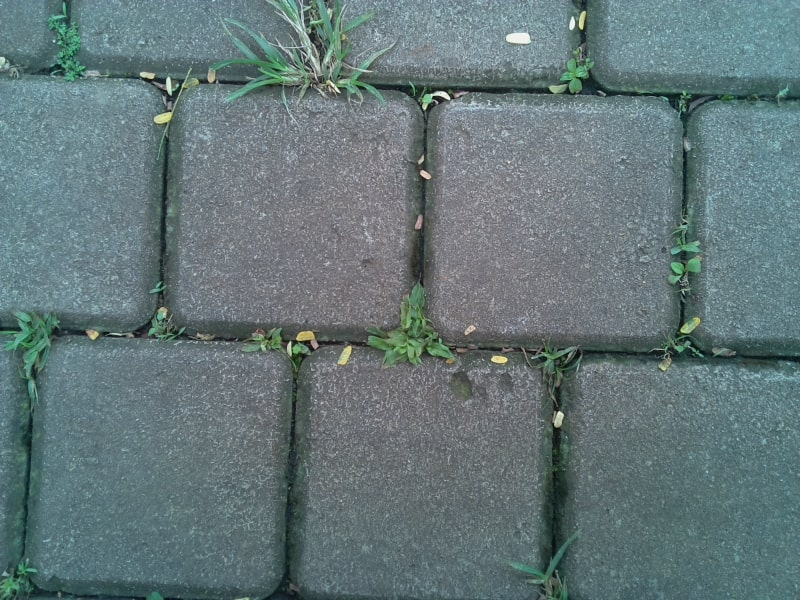Weed: (232, 6, 377, 99), (374, 294, 455, 365), (11, 310, 55, 399), (672, 216, 702, 298), (253, 330, 310, 369), (522, 554, 569, 600), (51, 17, 83, 79), (534, 343, 575, 388), (556, 57, 595, 98), (663, 332, 705, 365), (149, 313, 184, 346), (2, 566, 36, 598), (673, 94, 693, 119)
